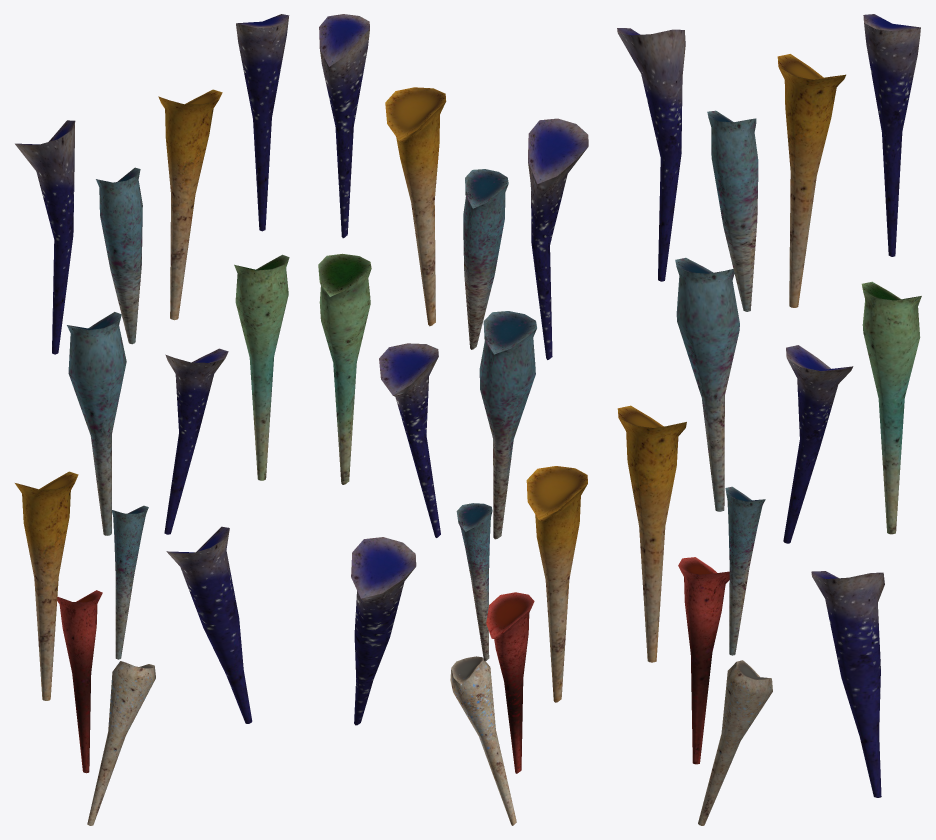
File: ScrollDecorFish02.fbx
3 views of the same model, side by side, from view 1: azimuth 30°, elevation 25°; view 2: azimuth 150°, elevation 25°; view 3: azimuth 330°, elevation 25° (orthographic). The views are drawn at different scales.
Parts seen in each view (by area): view 1: ScrollDecorFish02; view 2: ScrollDecorFish02; view 3: ScrollDecorFish02.
Part boxes in pixels (x1,y1,x2,y2): ScrollDecorFish02: (15, 14, 289, 825); ScrollDecorFish02: (318, 14, 588, 825); ScrollDecorFish02: (617, 14, 921, 825).
Bounding box in the file's own units: 65.81 × 180 × 18.6.
